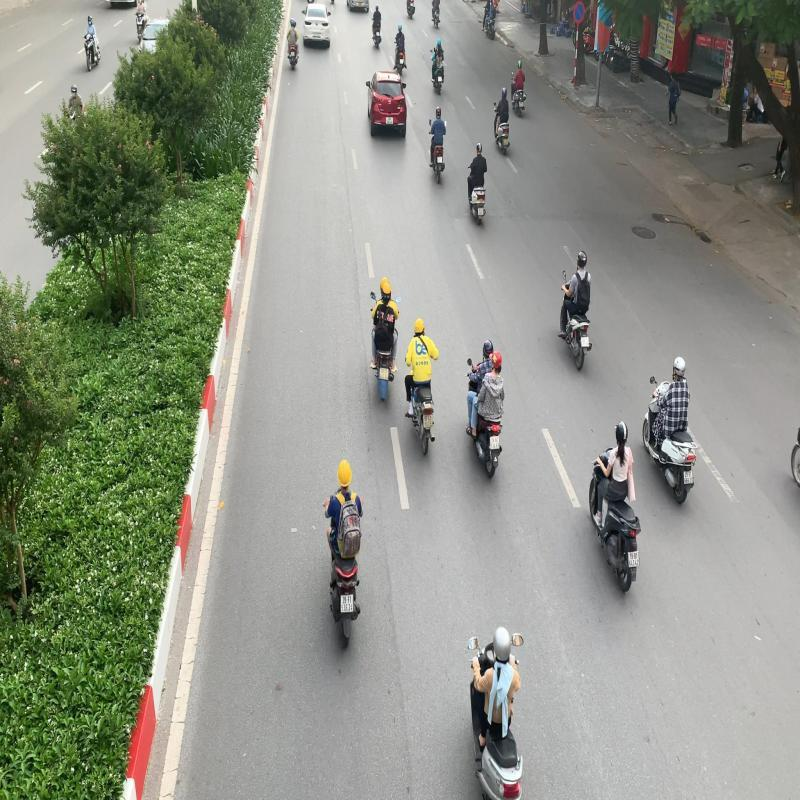helmet: (336, 459, 352, 488), (613, 420, 629, 444), (672, 356, 686, 377), (489, 349, 502, 368), (482, 338, 493, 356)
licenseplate: (339, 592, 355, 614), (627, 548, 641, 570), (683, 469, 694, 485), (489, 435, 500, 450)
motorcyclist: (584, 418, 646, 594), (643, 356, 707, 509), (319, 457, 366, 650), (462, 337, 507, 478)
